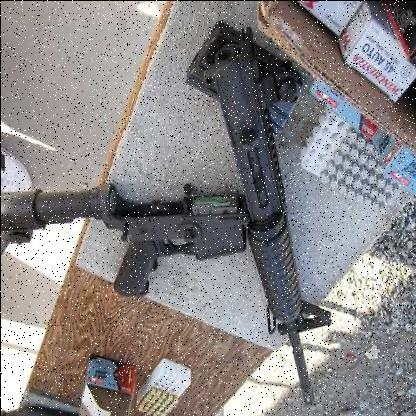rifle: (162, 22, 336, 402), (1, 168, 247, 320)
